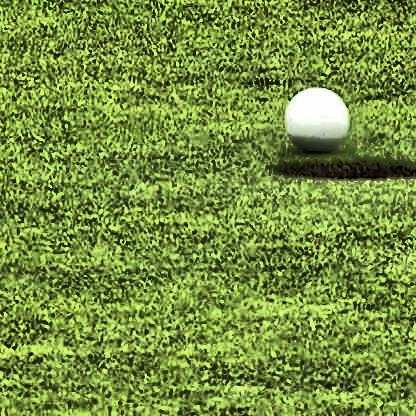golfball: (281, 85, 346, 150)
